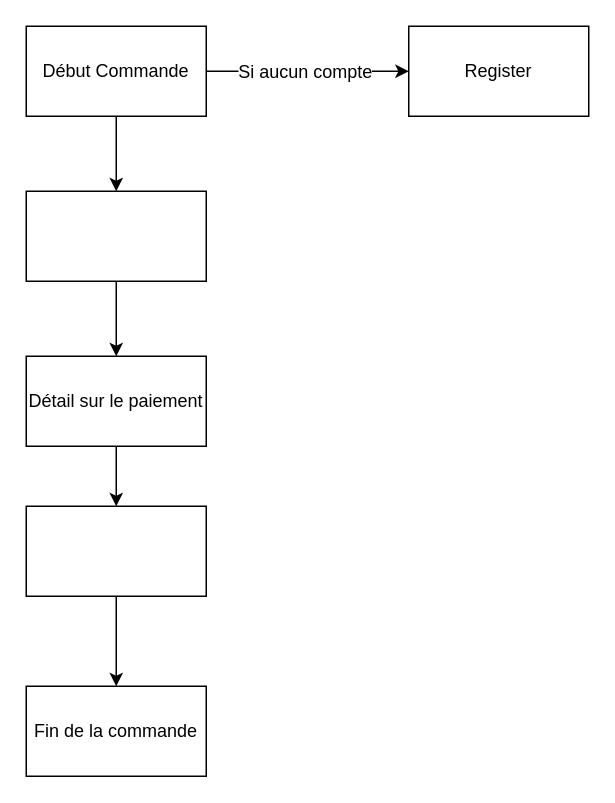
The diagram is 615 pixels wide and 803 high, and some of its shapes have lost their labels. The centre of each missing label's shape, as x and y in pixels:
"Détail sur la livraison" belongs at point (115, 235).
"Résumé des informations" belongs at point (115, 550).
